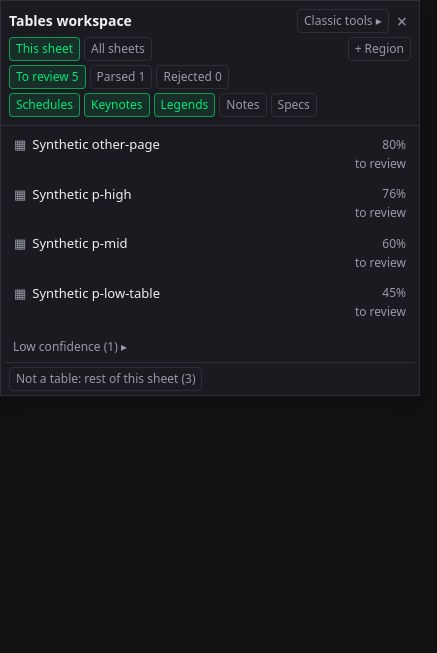
Test case: inbox › bulk 'Not a table: rest of this sheet' rejects only the VISIBLE To-review rows, sequentially
expect the list named "Inbox" is shown: met, box [5,130,415,326]
Click the text "Synthetic p-high". click: (82, 194)
box: [32,184,131,202]
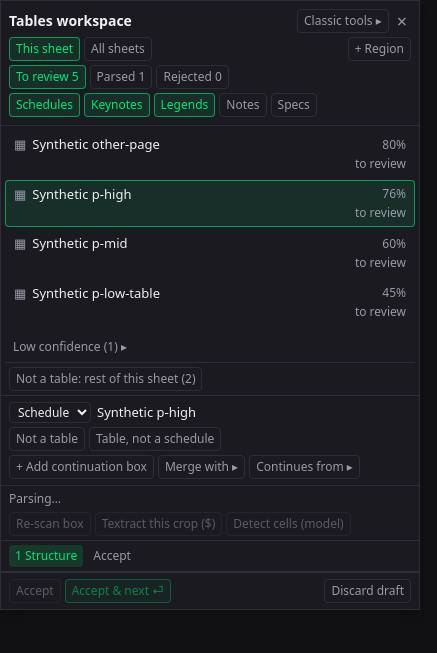
// The fold is closed: p-noise is not on screen, so it is not rejected (a reject is a negative label).
Click the button "Not a table: rest of this sheet (2)". click: (106, 379)
box: [9,367,202,391]
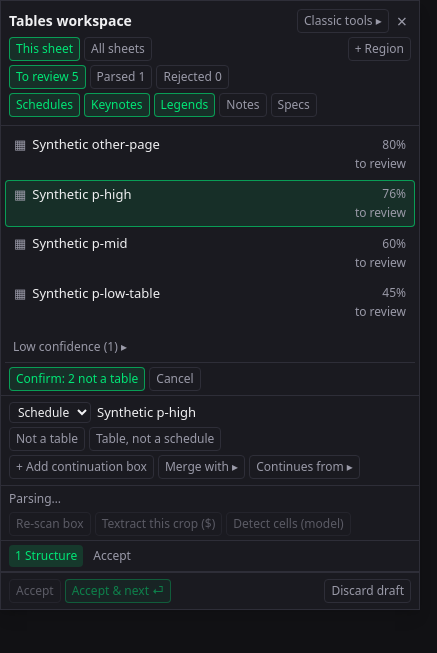
Click the button "Confirm: 2 not a table". click: (77, 379)
box: [9,367,145,391]
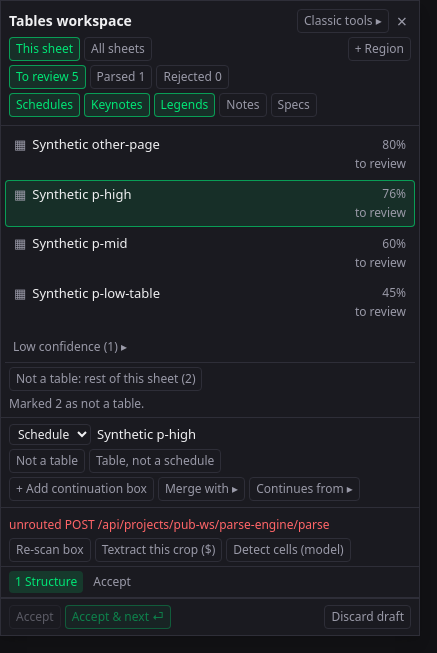
expect the text "Marked 2 as not a table." is shown: met, box [9,395,144,412]
